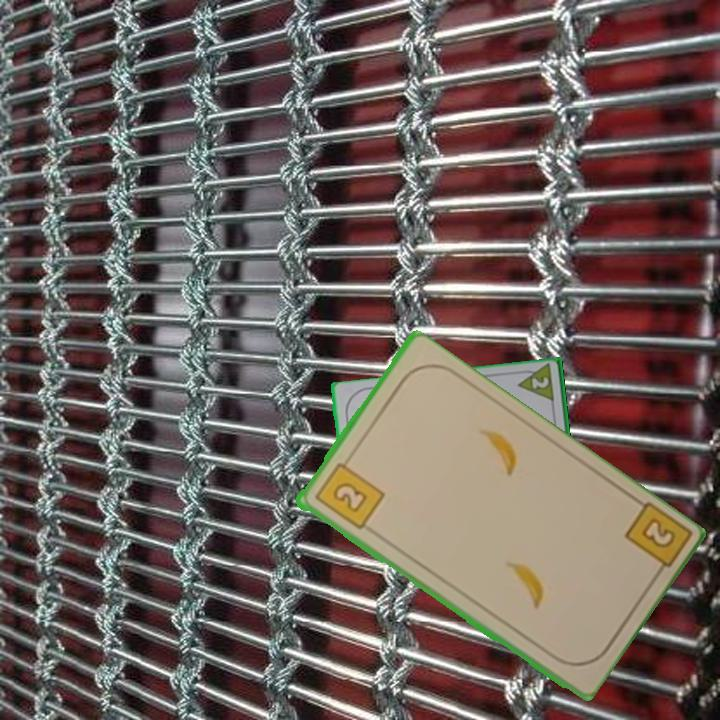2b: (310, 453, 387, 533), (620, 498, 691, 583)
2p: (528, 374, 552, 392)
